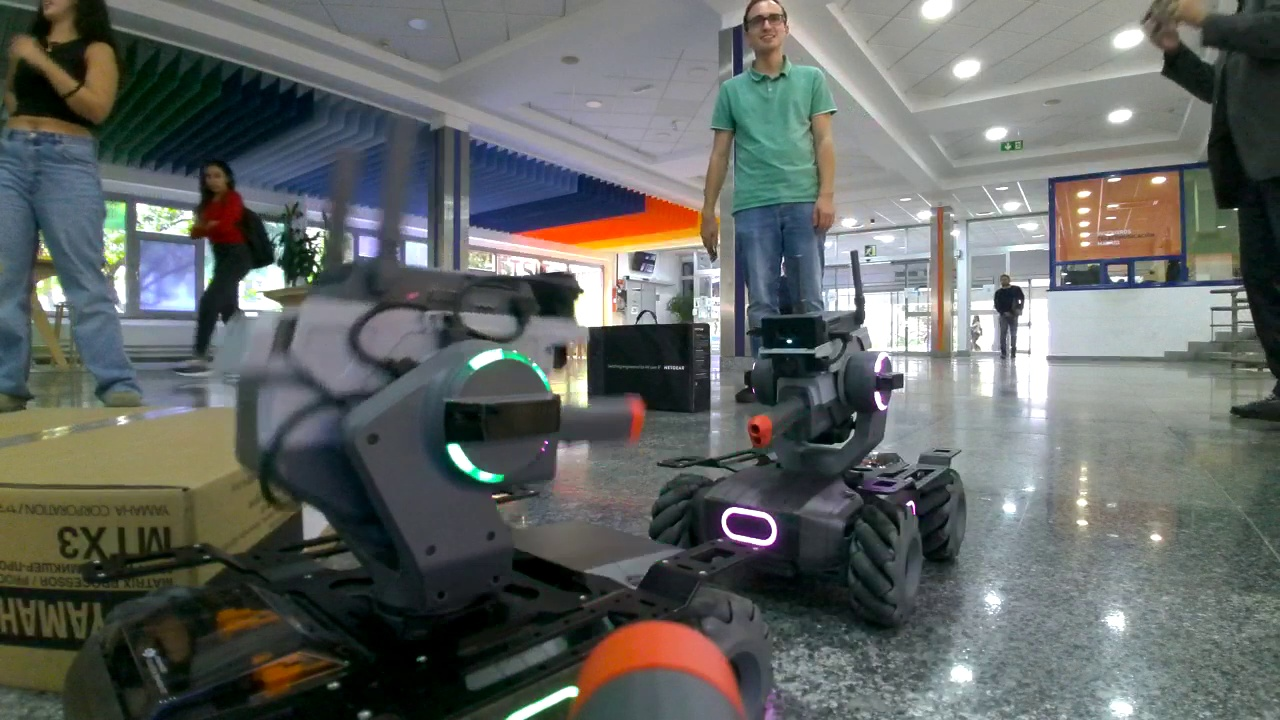robot: (63, 271, 786, 710), (651, 300, 971, 639)
